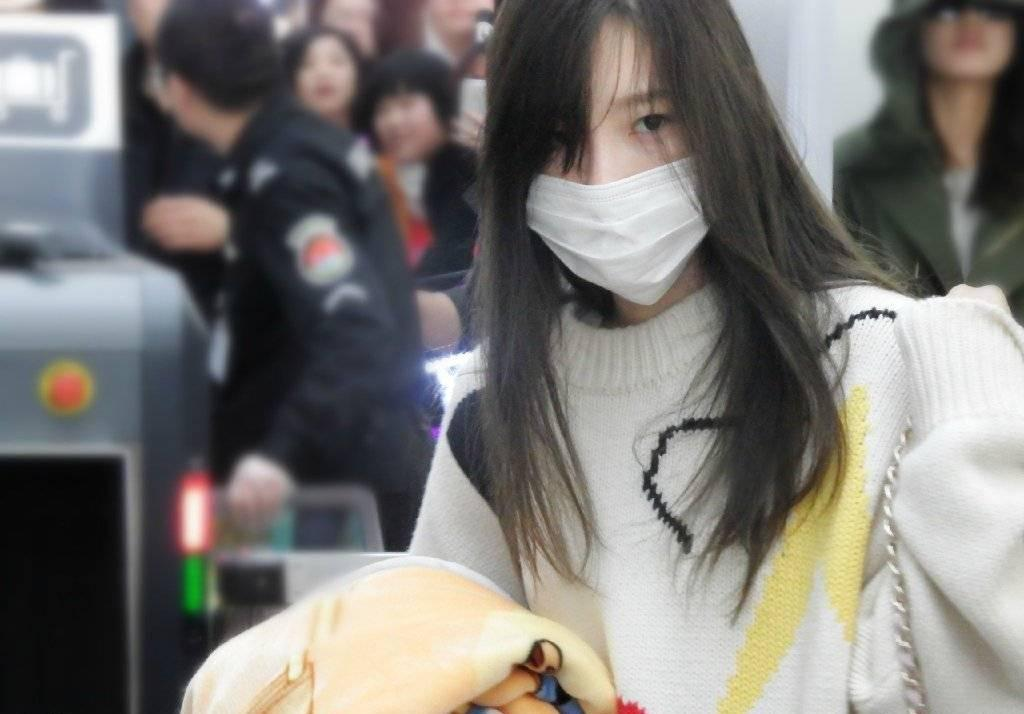NONE: (918, 1, 1019, 83), (375, 96, 435, 156), (299, 51, 357, 110)
WRONG: (500, 79, 730, 309)
